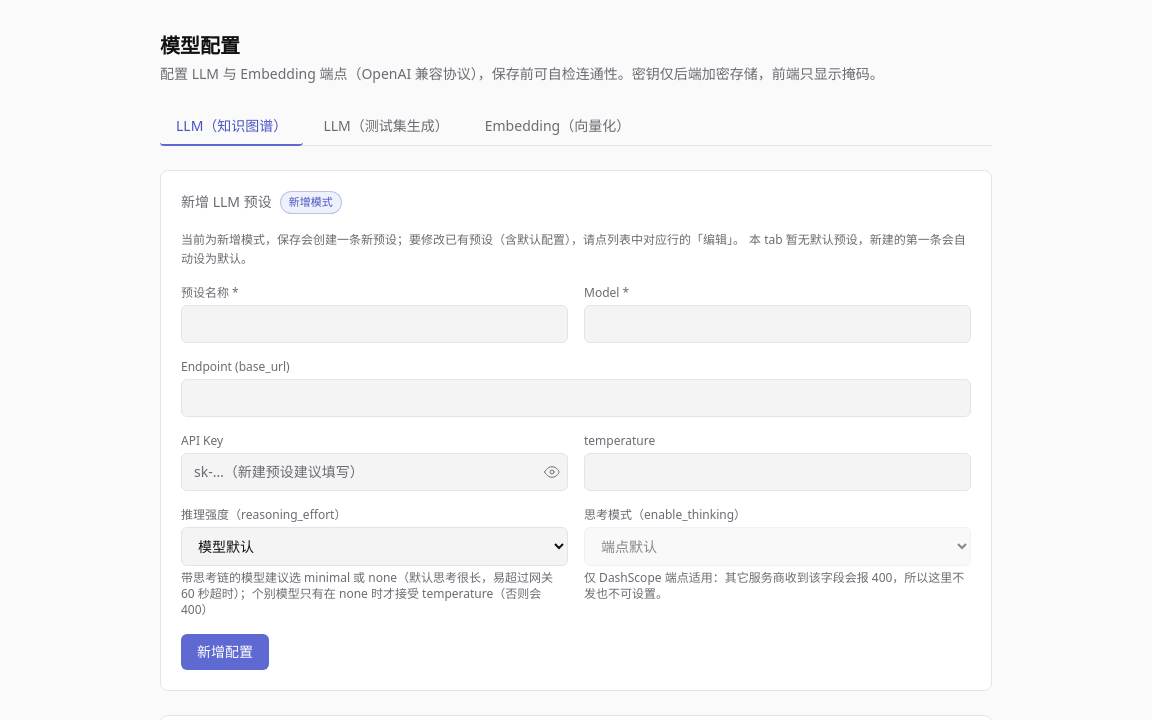
Test case: ConfigPage › 必填拦截的文案显示在对应输入框下方
Click the button "新增配置". click: (225, 652)
box: left=181, top=634, right=269, bottom=670
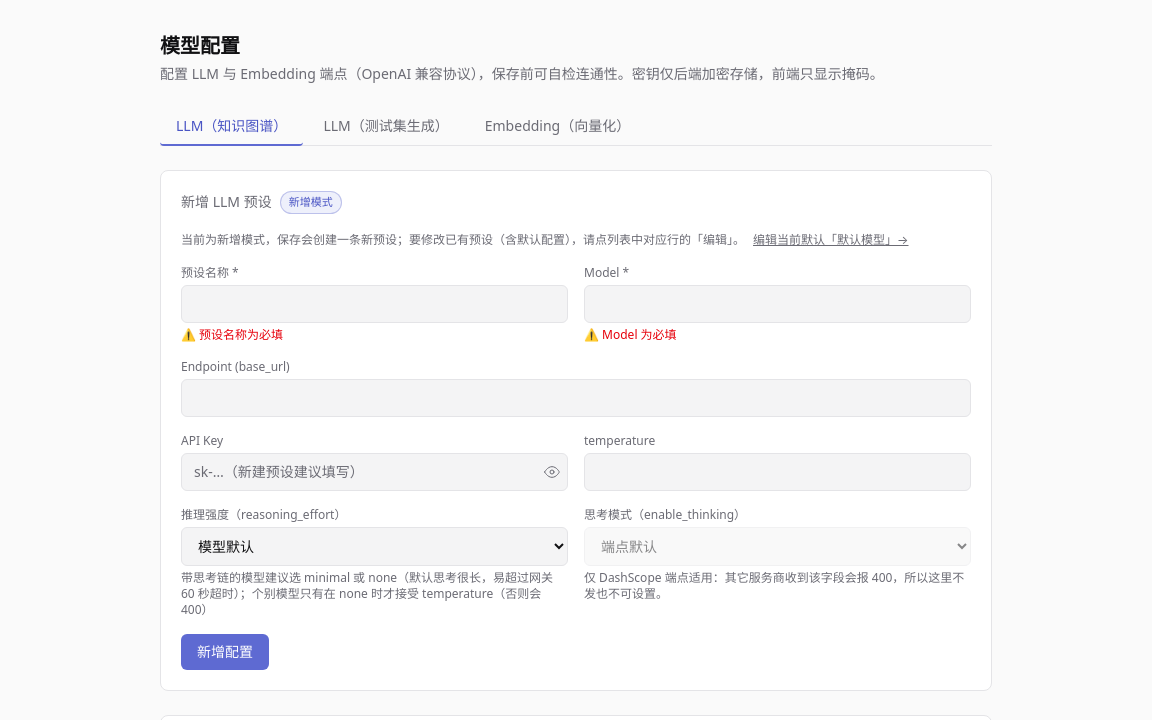
Now the text "⚠️ 预设名称为必填" is shown, box left=181, top=326, right=283, bottom=343
Now the text "⚠️ Model 为必填" is shown, box left=584, top=326, right=677, bottom=343
